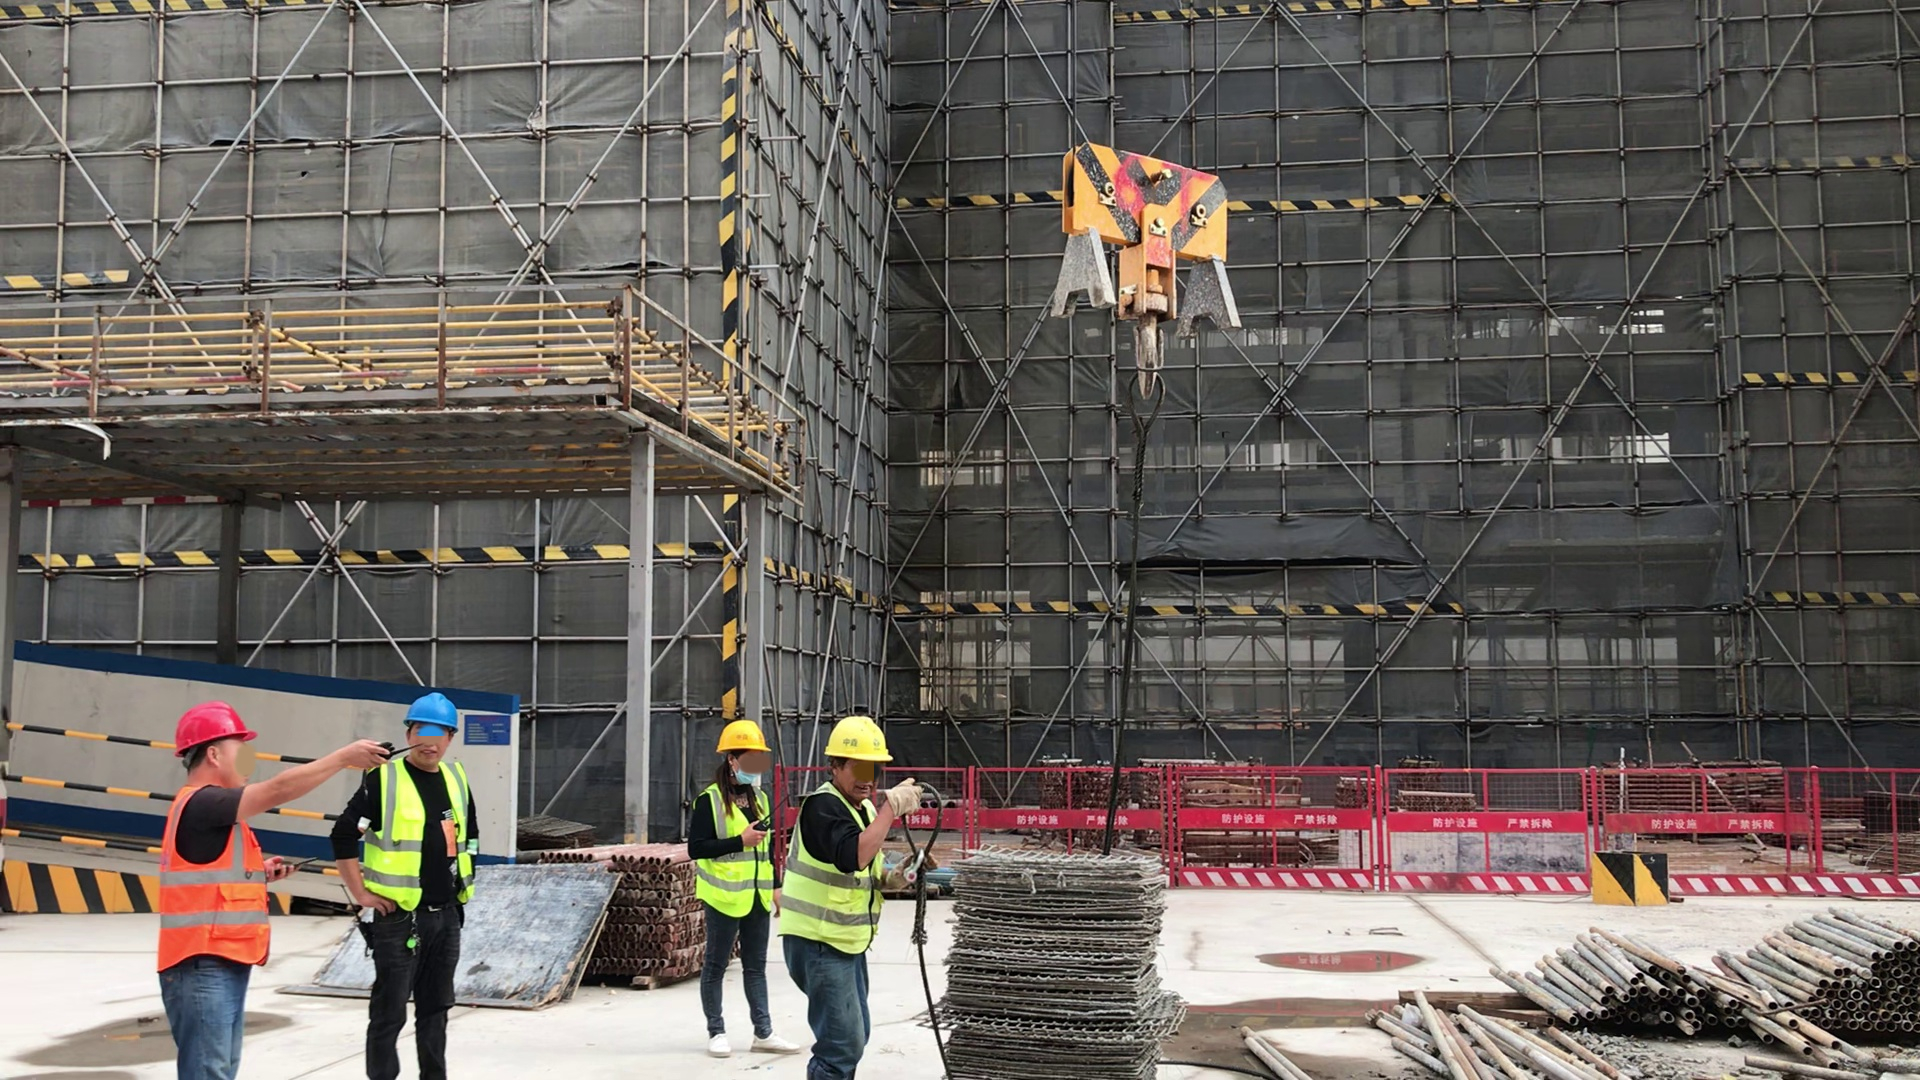fence: (911, 766, 1920, 894)
helmet: (171, 701, 258, 756), (821, 716, 893, 765), (402, 689, 462, 730), (715, 714, 773, 756)
hook: (1056, 145, 1240, 396)
person: (159, 700, 387, 1080), (336, 693, 482, 1080), (777, 714, 923, 1080), (685, 720, 801, 1056)
scaffold: (944, 850, 1157, 1080), (606, 851, 700, 984)
vest: (159, 783, 270, 968), (775, 783, 879, 953), (361, 757, 470, 914), (696, 785, 777, 920)
